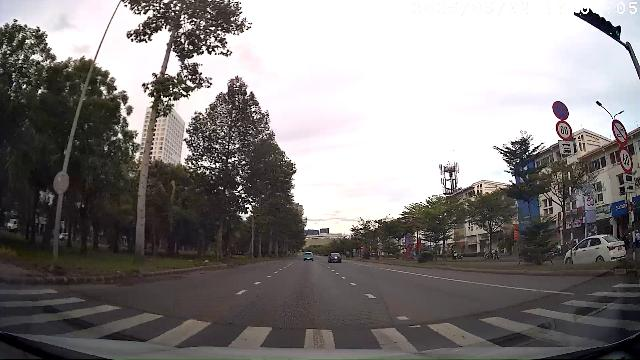127-toc-do-toi-da-60: (618, 146, 632, 172)
127-toc-do-toi-da-80: (556, 120, 572, 140)
130-cam-dung-va-do-xe: (553, 100, 569, 120)
